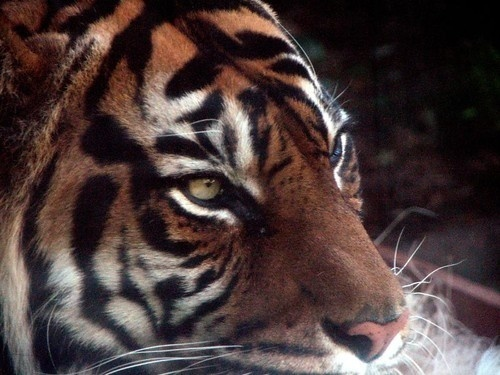tigre: (1, 1, 455, 373)
